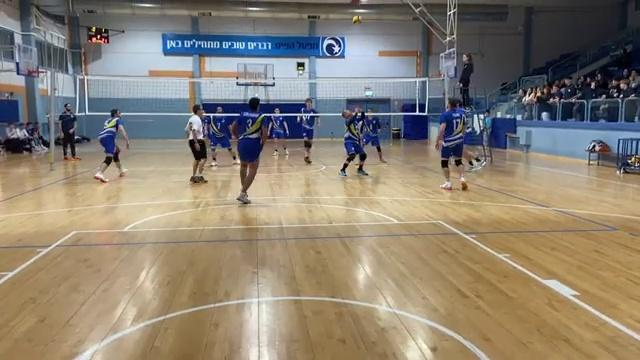ball: (351, 14, 365, 27)
